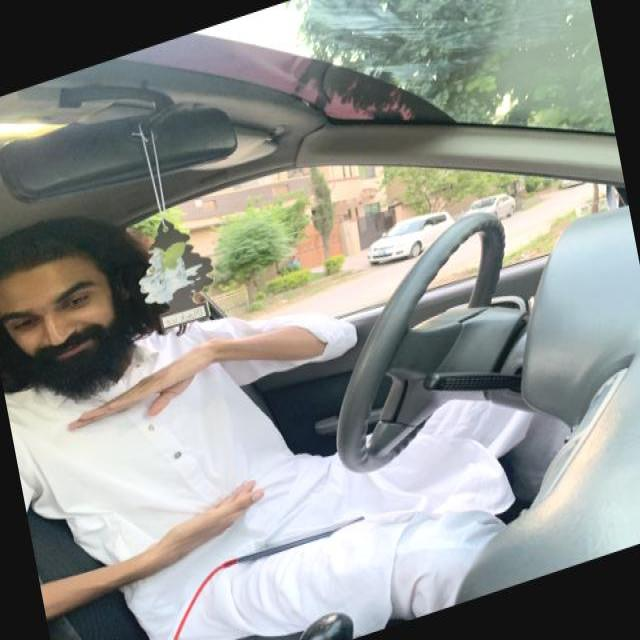no-seatbelt: (6, 388, 321, 570)
